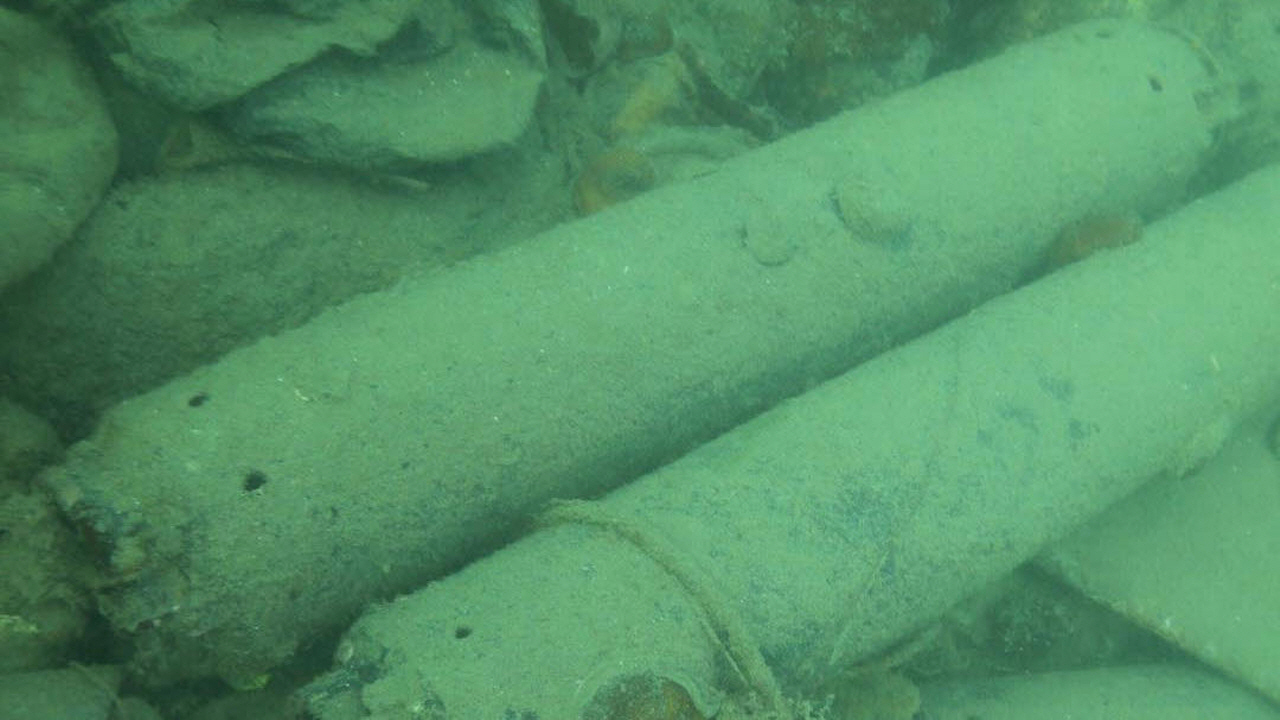eel fish trap: (29, 12, 1232, 696), (290, 161, 1280, 720)
rope: (529, 497, 794, 720)
